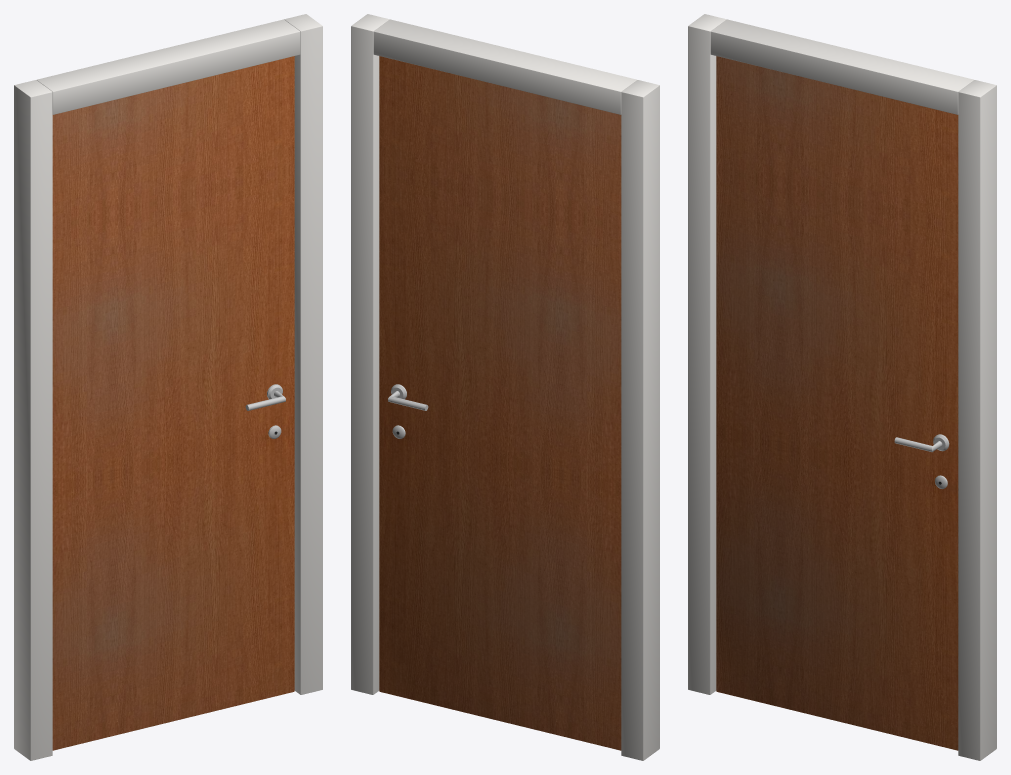
File: recZCgAqVgIDfIOu3.glb
The picture shows the model from 3 angles, left to right: view 1: azimuth 30°, elevation 25°; view 2: azimuth 150°, elevation 25°; view 3: azimuth 330°, elevation 25°; orthographic projection.
Parts seen in each view (by area): view 1: porte_chambre__battant, porte_chambre__cadre; view 2: porte_chambre__battant, porte_chambre__cadre; view 3: porte_chambre__battant, porte_chambre__cadre.
Boxes of the visible parts, x1,y1,x2,y2 form: porte_chambre__battant: [52, 56, 294, 750]; porte_chambre__cadre: [14, 14, 322, 760]; porte_chambre__battant: [379, 56, 621, 750]; porte_chambre__cadre: [351, 14, 659, 760]; porte_chambre__battant: [716, 56, 958, 750]; porte_chambre__cadre: [688, 14, 996, 760].
Bounding box in the file's own units: 1 × 2.18 × 0.1689.
Materials: 4 (2 with a texture image).
